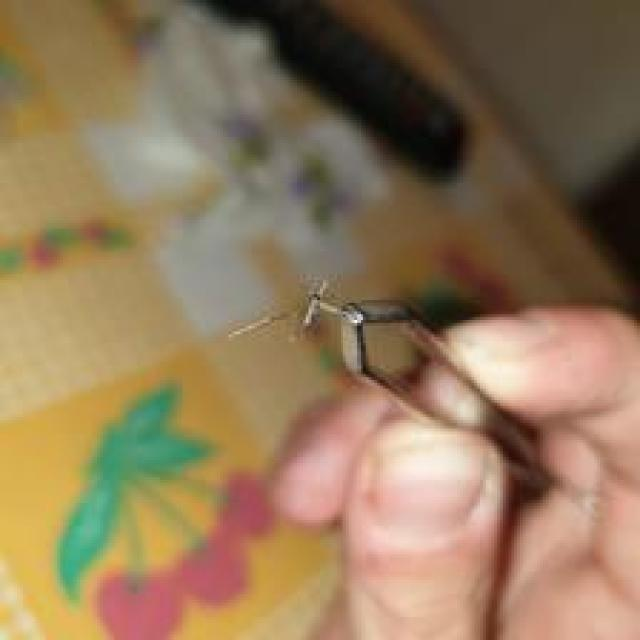Aedes albopictus: (227, 274, 584, 512)
